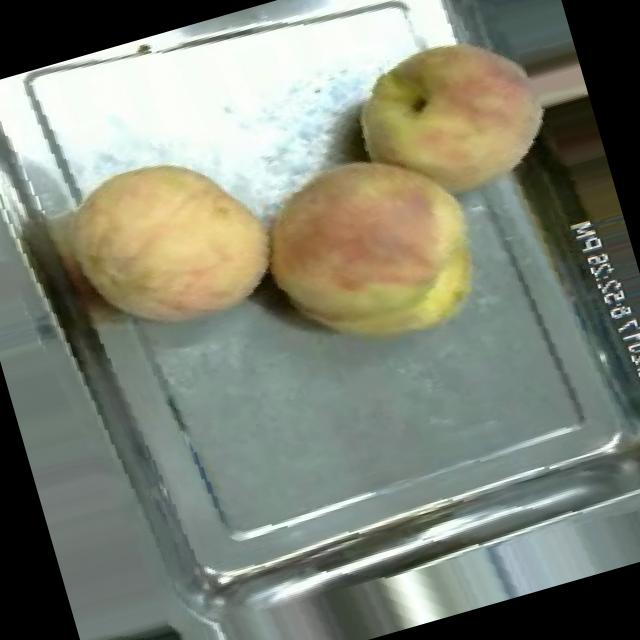Fruit: (230, 116, 510, 383), (39, 119, 298, 364), (324, 4, 574, 236)
